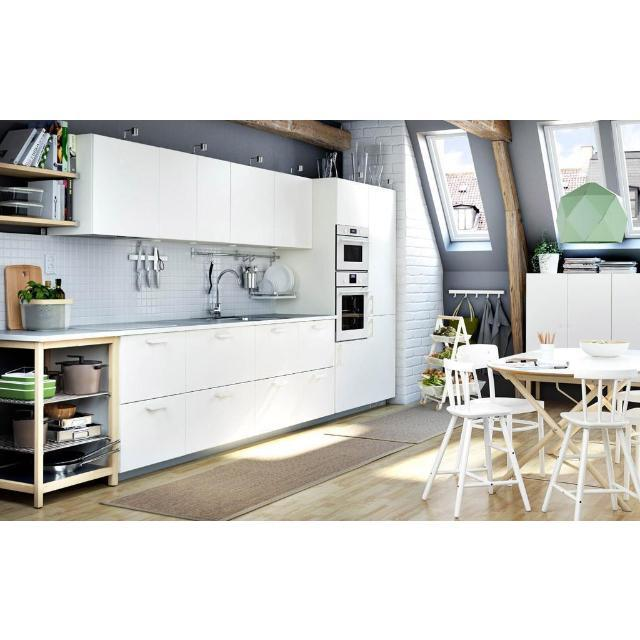chair: (422, 359, 530, 517), (542, 369, 640, 520)
dresser: (526, 273, 640, 350)
rug: (102, 438, 410, 520), (325, 404, 451, 443)
shelf: (0, 335, 119, 507)
table: (489, 348, 640, 467), (588, 463, 608, 488), (496, 469, 514, 480), (590, 384, 598, 397), (570, 443, 579, 453), (574, 400, 581, 410)
